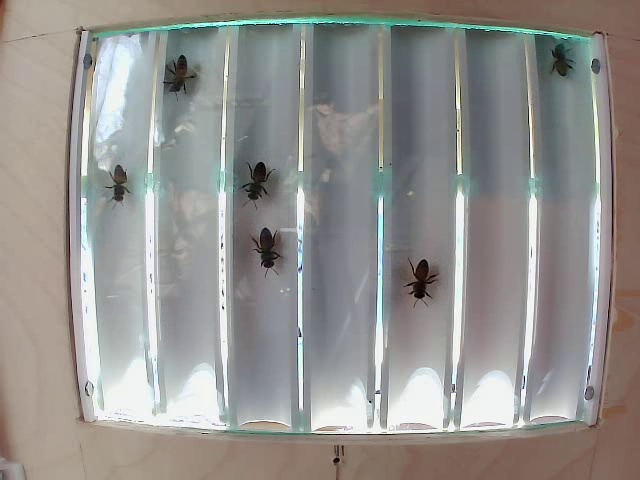bee: (244, 213, 285, 280), (159, 52, 207, 99), (93, 155, 135, 205), (248, 147, 283, 202), (548, 20, 572, 91), (403, 255, 434, 308)
